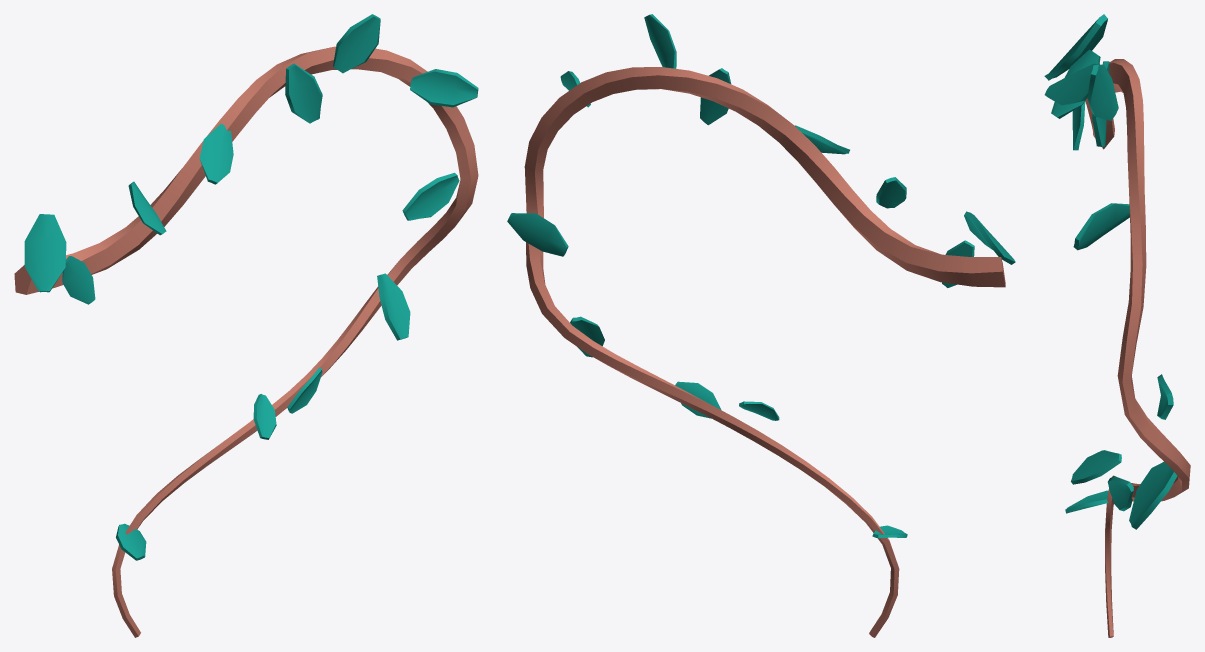
Rendered from SM_Vine3.fbx.
3 views of the same model, side by side, from view 1: azimuth 30°, elevation 25°; view 2: azimuth 150°, elevation 25°; view 3: azimuth 270°, elevation 25° (orthographic). The views are drawn at different scales.
Parts seen in each view (by area): view 1: Vine3; view 2: Vine3; view 3: Vine3.
Boxes of the visible parts, x1,y1,x2,y2 form: Vine3: (14, 14, 478, 637); Vine3: (507, 14, 1015, 637); Vine3: (1044, 14, 1190, 637).
Bounding box in the file's own units: 45.36 × 52.19 × 9.68.
